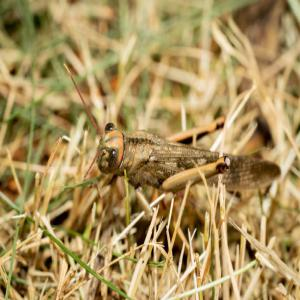locust: (67, 80, 277, 216)
